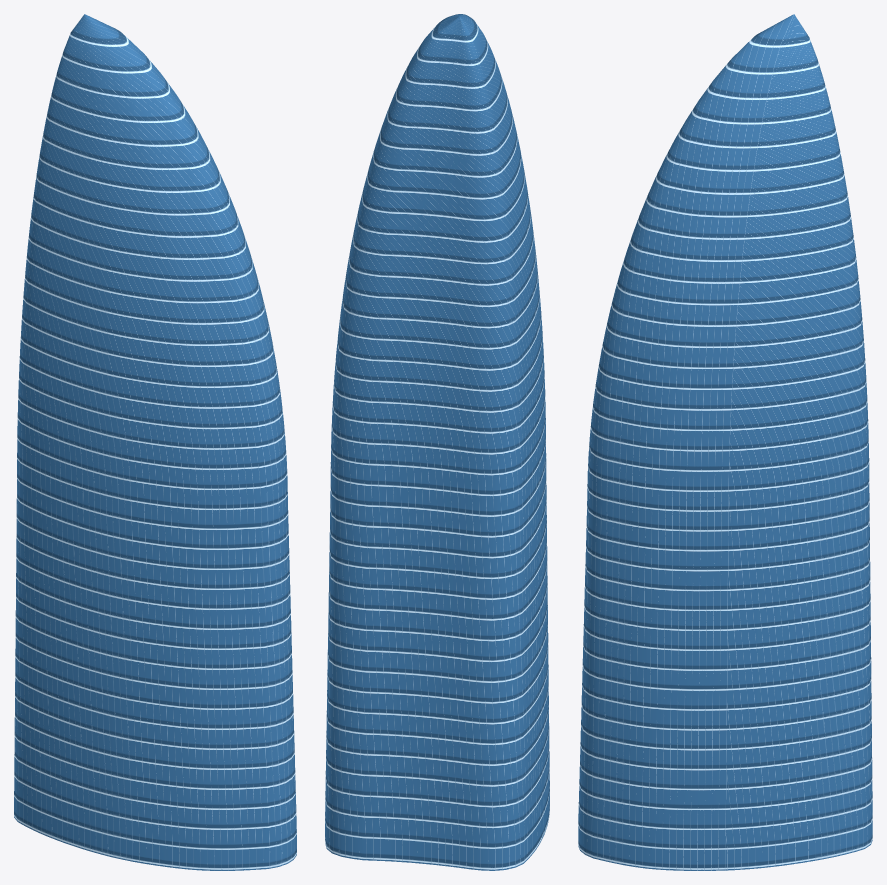
File: landmark-flame-tower-1.glb
The picture shows the model from 3 angles, left to right: view 1: azimuth 30°, elevation 25°; view 2: azimuth 150°, elevation 25°; view 3: azimuth 270°, elevation 25°; orthographic projection. The views are drawn at different scales.
Visible parts, largest first — view 1: flame-tower-1; view 2: flame-tower-1; view 3: flame-tower-1.
Part boxes in pixels (x1,y1,x2,y2): flame-tower-1: [14, 14, 296, 870]; flame-tower-1: [325, 14, 549, 870]; flame-tower-1: [578, 14, 872, 870].
Size of the model in its own units: 49.56 by 187 by 63.16.
Materials: 1 (1 with a texture image).
